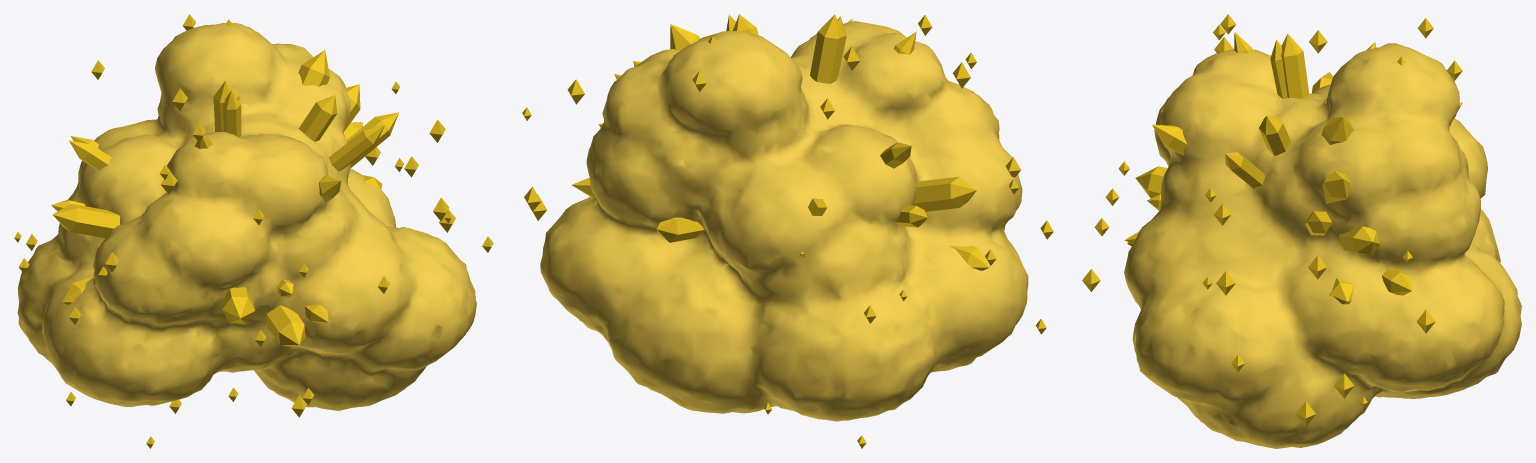
File: sulfur_bloom.obj
3 views of the same model, side by side, from view 1: azimuth 30°, elevation 25°; view 2: azimuth 150°, elevation 25°; view 3: azimuth 270°, elevation 25° (orthographic). The views are drawn at different scales.
Visible parts, largest first — view 1: sulfur_bloom; view 2: sulfur_bloom; view 3: sulfur_bloom.
Boxes of the visible parts, x1,y1,x2,y2 form: sulfur_bloom: (14, 14, 493, 448); sulfur_bloom: (522, 14, 1053, 448); sulfur_bloom: (1082, 14, 1521, 448).
Bounding box in the file's own units: 1000 × 831 × 846.
1 material, 1 textured.
